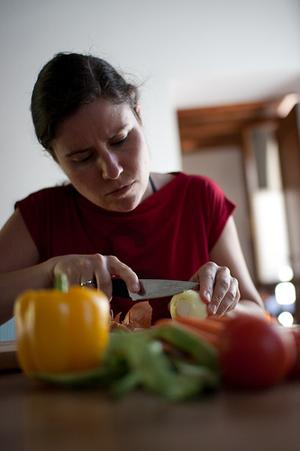person: (1, 47, 267, 320)
